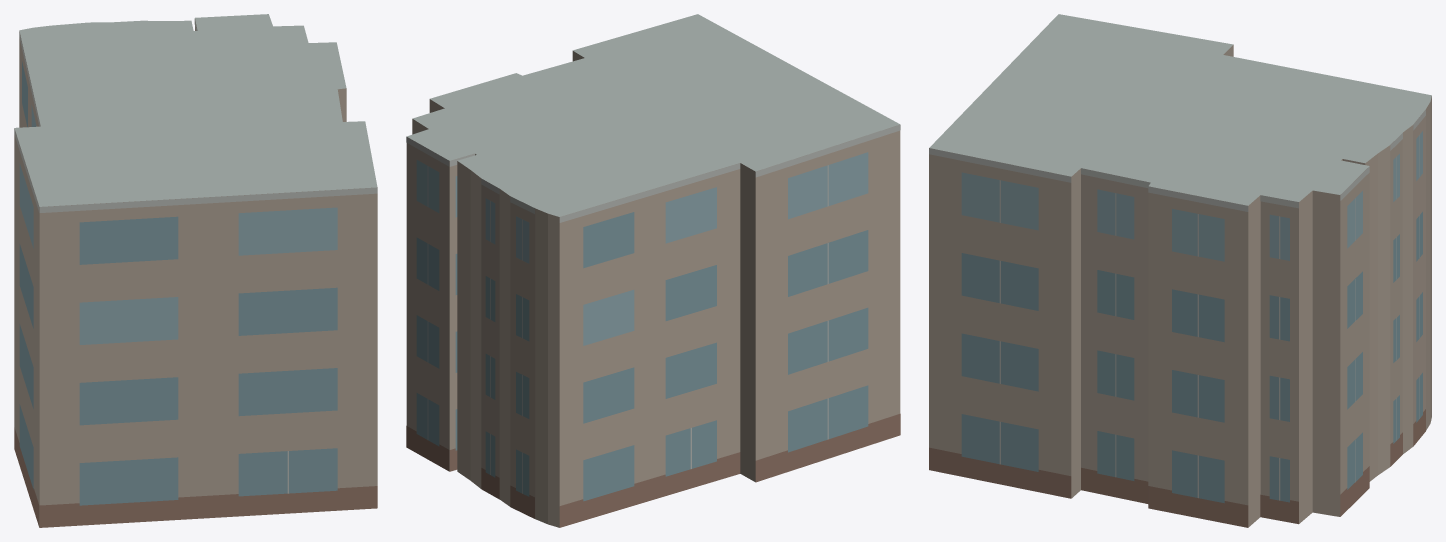
Rendered from survey-upis-32695950.glb.
3 renders of one model, left to right at view 1: azimuth 30°, elevation 25°; view 2: azimuth 150°, elevation 25°; view 3: azimuth 270°, elevation 25°, orthographic. The views are drawn at different scales.
Parts seen in each view (by area): view 1: survey-upis-32695950.tmp; view 2: survey-upis-32695950.tmp; view 3: survey-upis-32695950.tmp.
Boxes of the visible parts, x1,y1,x2,y2 form: survey-upis-32695950.tmp: [14, 14, 377, 527]; survey-upis-32695950.tmp: [406, 14, 900, 527]; survey-upis-32695950.tmp: [929, 14, 1431, 527].
Size of the model in its own units: 16.05 by 12.56 by 17.78.
